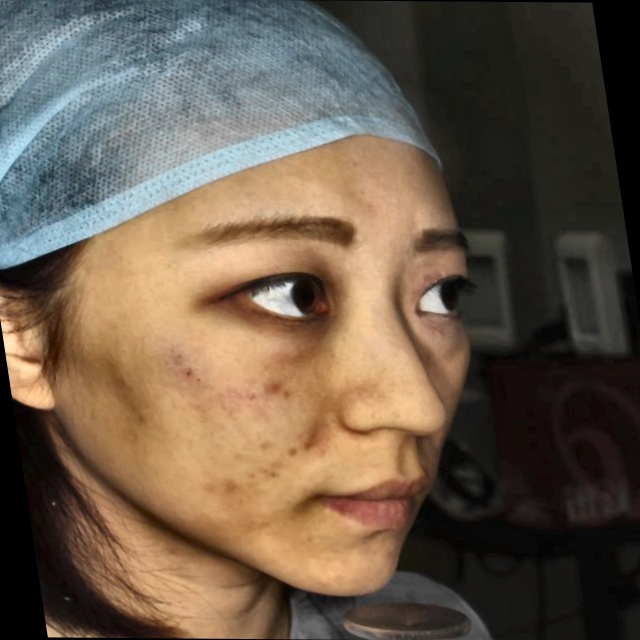comedone: (291, 426, 325, 453), (259, 378, 290, 404), (218, 472, 241, 503)
